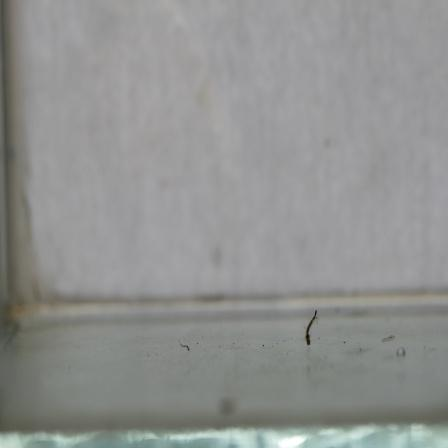Jentik-Nyamuk: (301, 306, 321, 350)
